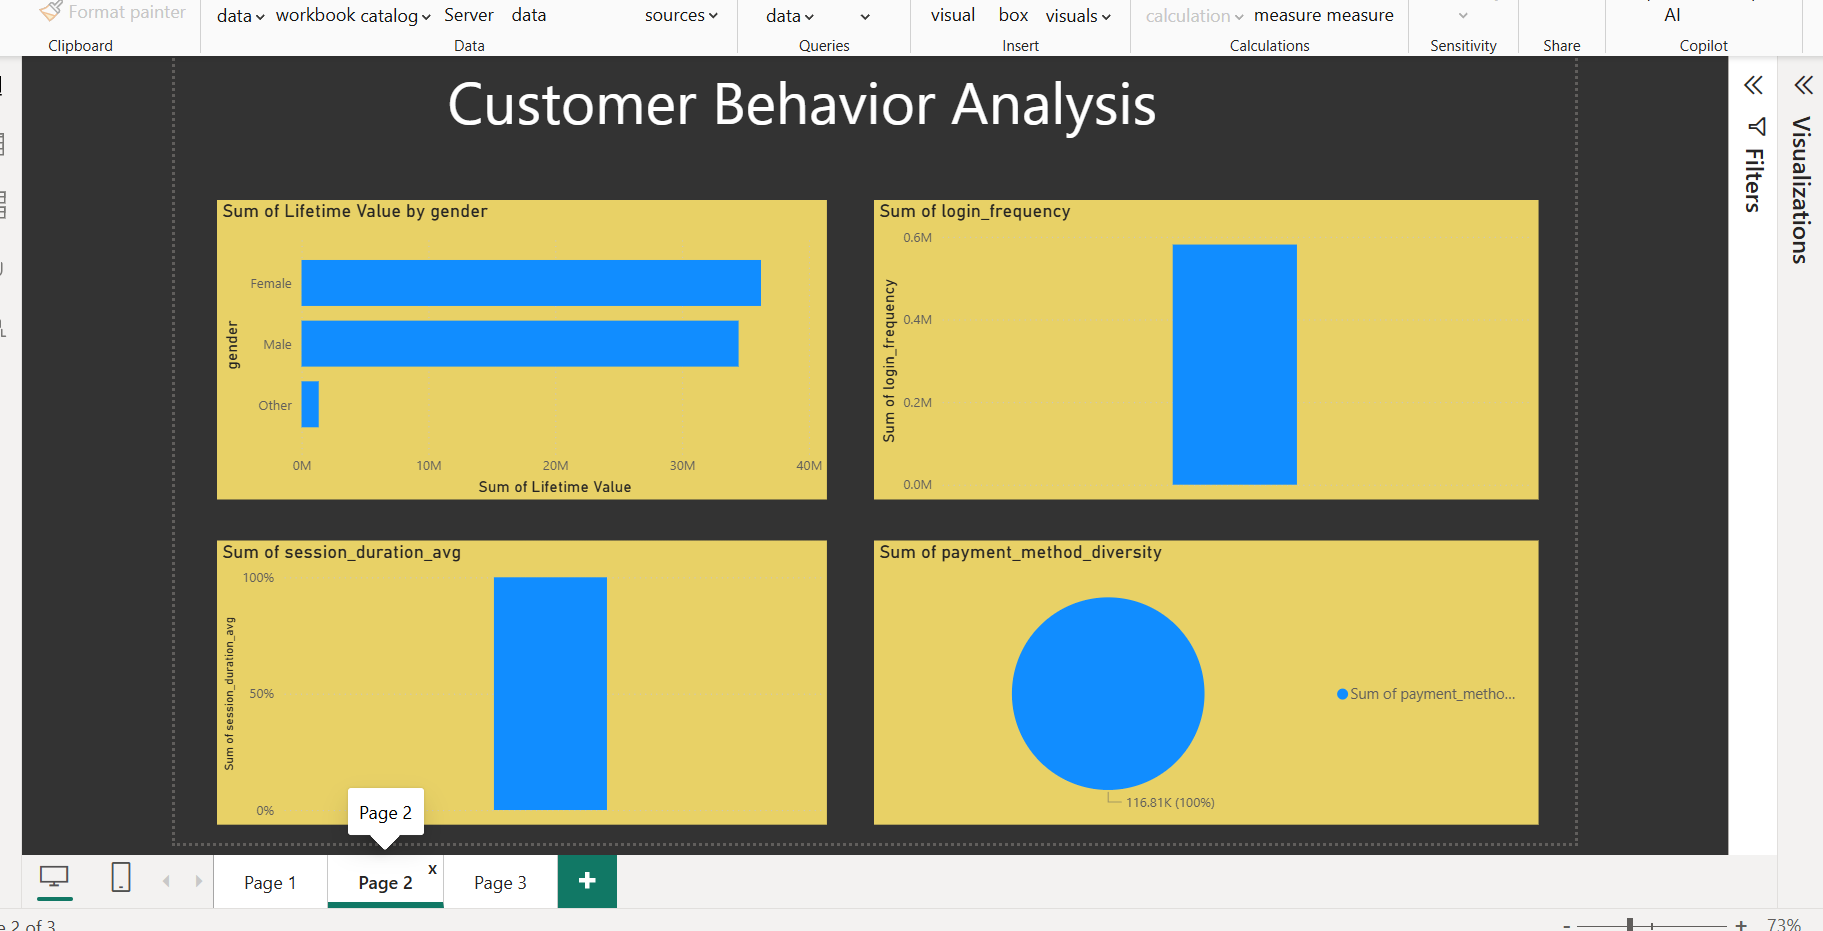

This screenshot's page, from the dashboard's own definition file:
{"tool":"powerbi","page":{"name":"Page 2","canvas":[1280,720],"ordinal":1},"visuals":[{"type":"barChart","fields":{"Category":["customer.gender"],"Y":["Sum(customer.Lifetime Value)"]},"box":[37.7,131.1,558.2,274.1],"z":0},{"type":"columnChart","fields":{"Y":["Sum(customer.login_frequency)"]},"box":[639.7,131.1,607.9,274.1],"z":1000},{"type":"hundredPercentStackedColumnChart","fields":{"Y":["Sum(customer.session_duration_avg)"]},"box":[37.7,443,558.2,260.2],"z":2000},{"type":"pieChart","fields":{"Y":["Sum(customer.payment_method_diversity)"]},"box":[639.7,443,607.9,260.2],"z":3000},{"type":"textbox","box":[244.3,0,798.6,109.3],"z":4000}]}

Visuals, with their boxes on the page's 1280x720 design canvas (x1, y1, x2, y2). These are canvas units, not pixel positions in the 1823x931 screenshot, which may show the page scaled, cropped or inside an application window:
barChart - customer.gender x Sum(customer.Lifetime Value): pyautogui.locateOnScreen(38, 131, 596, 405)
columnChart - Sum(customer.login_frequency): pyautogui.locateOnScreen(640, 131, 1248, 405)
hundredPercentStackedColumnChart - Sum(customer.session_duration_avg): pyautogui.locateOnScreen(38, 443, 596, 703)
pieChart - Sum(customer.payment_method_diversity): pyautogui.locateOnScreen(640, 443, 1248, 703)
textbox: pyautogui.locateOnScreen(244, 0, 1043, 109)
